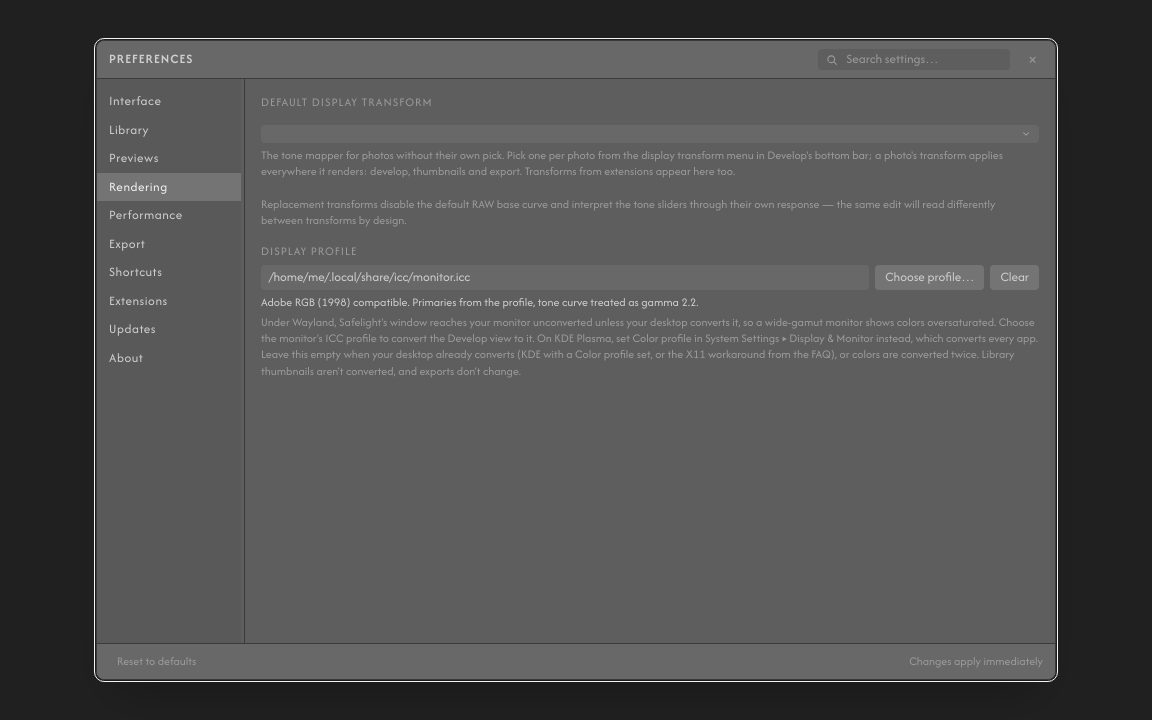
Preferences ▸ Rendering ▸ Display profile › clears the profile
Click the button "Clear" at point(1015, 277), box [990, 265, 1039, 290]
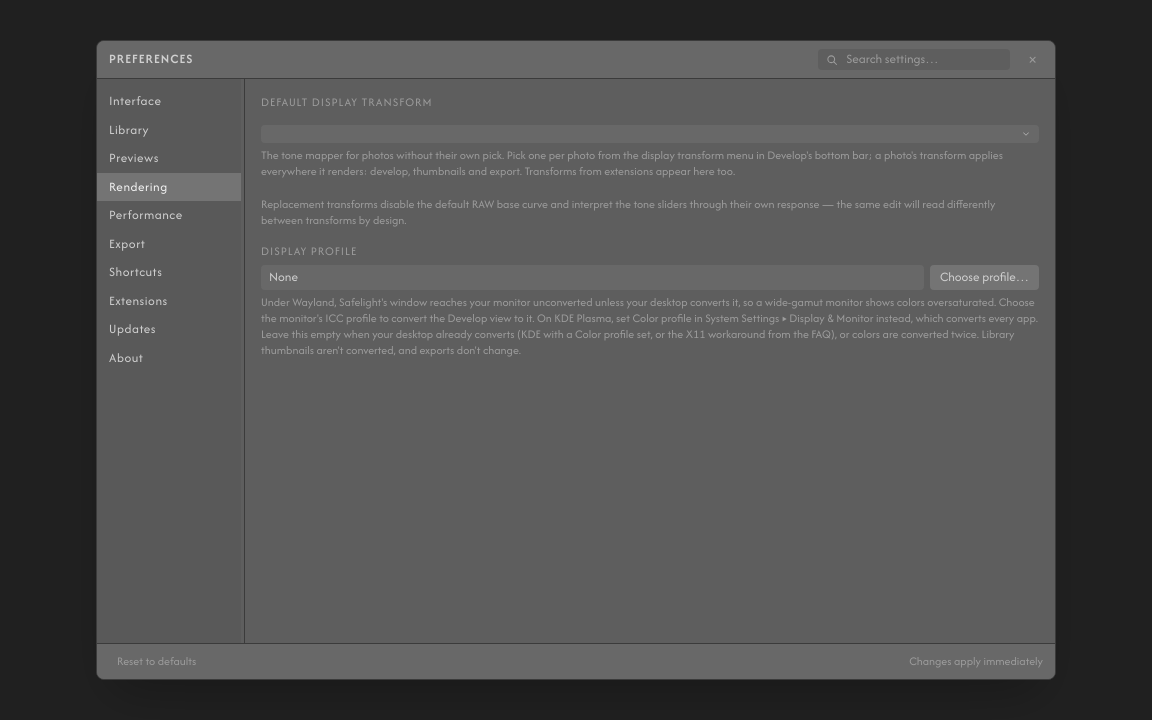
Now the text "None" is shown, box [261, 265, 924, 290]
